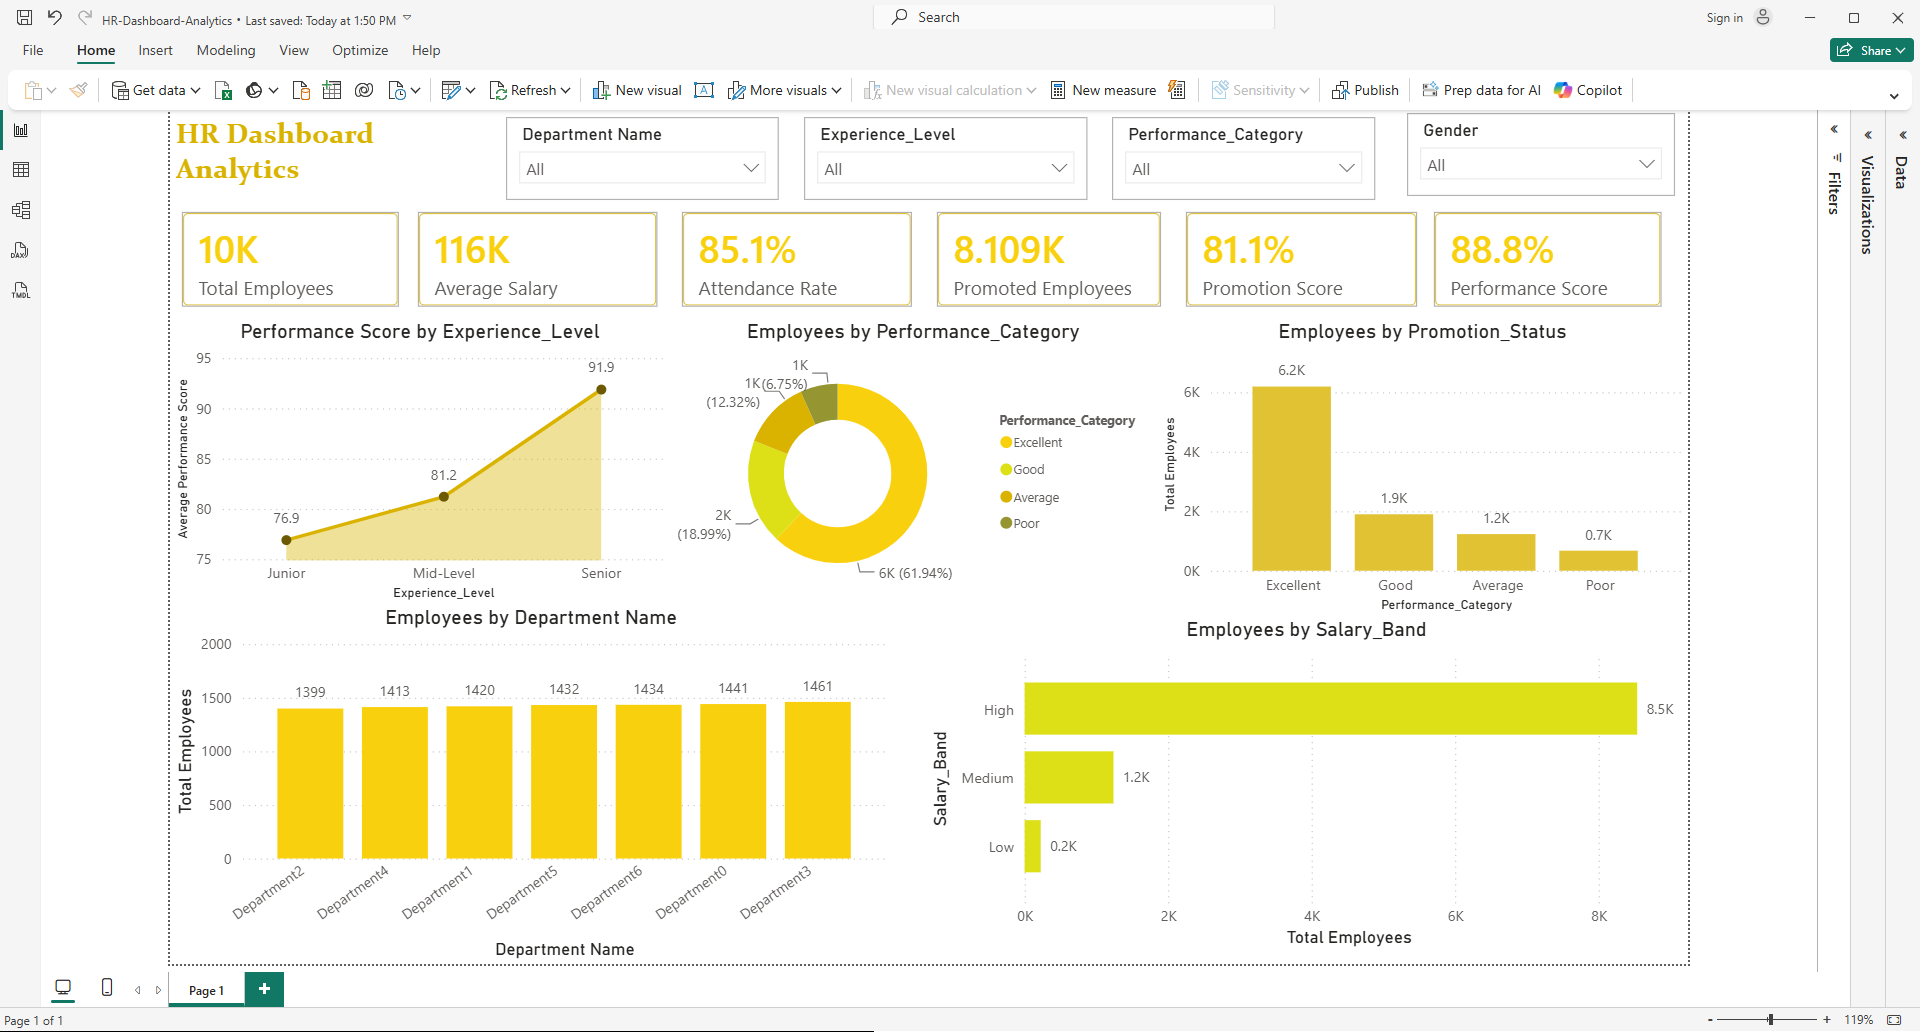

The dashboard page shown, as its layout file describes it:
{"tool":"powerbi","page":{"name":"Page 1","canvas":[1280,720],"ordinal":0},"visuals":[{"type":"cardVisual","fields":{"Data":["Employee_Performance_Analytics.Promoted Employees"]},"box":[585,76,231,108],"z":0},{"type":"cardVisual","fields":{"Data":["Employee_Performance_Analytics.Total Employees"]},"box":[0,76,187,108],"z":1000},{"type":"cardVisual","fields":{"Data":["Avg(Employee_Performance_Analytics.Performance_Score(%))"]},"box":[1020,76.1,259.7,107.5],"z":2000},{"type":"cardVisual","fields":{"Data":["Avg(Employee_Performance_Analytics.Attendance_Rate(%))"]},"box":[376,76,209,108],"z":3000},{"type":"cardVisual","fields":{"Data":["Employee_Performance_Analytics.Promotion Score"]},"box":[816,76,215,108],"z":4000},{"type":"cardVisual","fields":{"Data":["Employee_Performance_Analytics.Average Salary"]},"box":[178,76,200,108],"z":5000},{"type":"textbox","box":[220,0,776,76],"z":6000},{"type":"donutChart","title":" Employees by Performance_Category","fields":{"Category":["Employee_Performance_Analytics.Performance_Category"],"Y":["Employee_Performance_Analytics.Total Employees"]},"box":[352.8,184.5,463,206],"z":7000},{"type":"columnChart","title":"Employees by Promotion_Status","fields":{"Y":["Employee_Performance_Analytics.Total Employees"],"Category":["Employee_Performance_Analytics.Performance_Category"]},"box":[831.9,183.6,447.8,193.4],"z":8000},{"type":"lineChart","title":" Performance Score by Experience_Level","fields":{"Category":["Employee_Performance_Analytics.Experience_Level"],"Y":["Employee_Performance_Analytics.Average Performance Score"]},"box":[421.8,417.3,410.1,276.7],"z":9000},{"type":"barChart","title":"Employees by Salary_Band","fields":{"Category":["Employee_Performance_Analytics.Salary_Band"],"Y":["Employee_Performance_Analytics.Total Employees"]},"box":[0,190.7,352.8,209.6],"z":10000},{"type":"clusteredColumnChart","title":"Employees by Department Name","fields":{"Y":["Employee_Performance_Analytics.Total Employees"],"Category":["Employee_Performance_Analytics.Department Name"]},"box":[0,417.3,398.5,276.7],"z":11000},{"type":"slicer","fields":{"Values":["Employee_Performance_Analytics.Gender"]},"box":[883,608.1,172.8,86],"z":12000},{"type":"slicer","fields":{"Values":["Employee_Performance_Analytics.Experience_Level"]},"box":[1069.3,390.4,188.1,132.5],"z":13000},{"type":"slicer","fields":{"Values":["Employee_Performance_Analytics.Performance_Category"]},"box":[1069.3,539.1,188.1,154.9],"z":14000},{"type":"slicer","fields":{"Values":["Employee_Performance_Analytics.Department Name"]},"box":[883,390.4,172.8,200],"z":15000}]}

Visuals, with their boxes on the page's 1280x720 design canvas (x1, y1, x2, y2). These are canvas units, not pixel positions in the 1920x1032 screenshot, which may show the page scaled, cropped or inside an application window:
cardVisual - Employee_Performance_Analytics.Promoted Employees: l=585, t=76, r=816, b=184
cardVisual - Employee_Performance_Analytics.Total Employees: l=0, t=76, r=187, b=184
cardVisual - Avg(Employee_Performance_Analytics.Performance_Score(%)): l=1020, t=76, r=1280, b=184
cardVisual - Avg(Employee_Performance_Analytics.Attendance_Rate(%)): l=376, t=76, r=585, b=184
cardVisual - Employee_Performance_Analytics.Promotion Score: l=816, t=76, r=1031, b=184
cardVisual - Employee_Performance_Analytics.Average Salary: l=178, t=76, r=378, b=184
textbox: l=220, t=0, r=996, b=76
" Employees by Performance_Category" donutChart: l=353, t=184, r=816, b=390
"Employees by Promotion_Status" columnChart: l=832, t=184, r=1280, b=377
" Performance Score by Experience_Level" lineChart: l=422, t=417, r=832, b=694
"Employees by Salary_Band" barChart: l=0, t=191, r=353, b=400
"Employees by Department Name" clusteredColumnChart: l=0, t=417, r=398, b=694
slicer - Employee_Performance_Analytics.Gender: l=883, t=608, r=1056, b=694
slicer - Employee_Performance_Analytics.Experience_Level: l=1069, t=390, r=1257, b=523
slicer - Employee_Performance_Analytics.Performance_Category: l=1069, t=539, r=1257, b=694
slicer - Employee_Performance_Analytics.Department Name: l=883, t=390, r=1056, b=590
